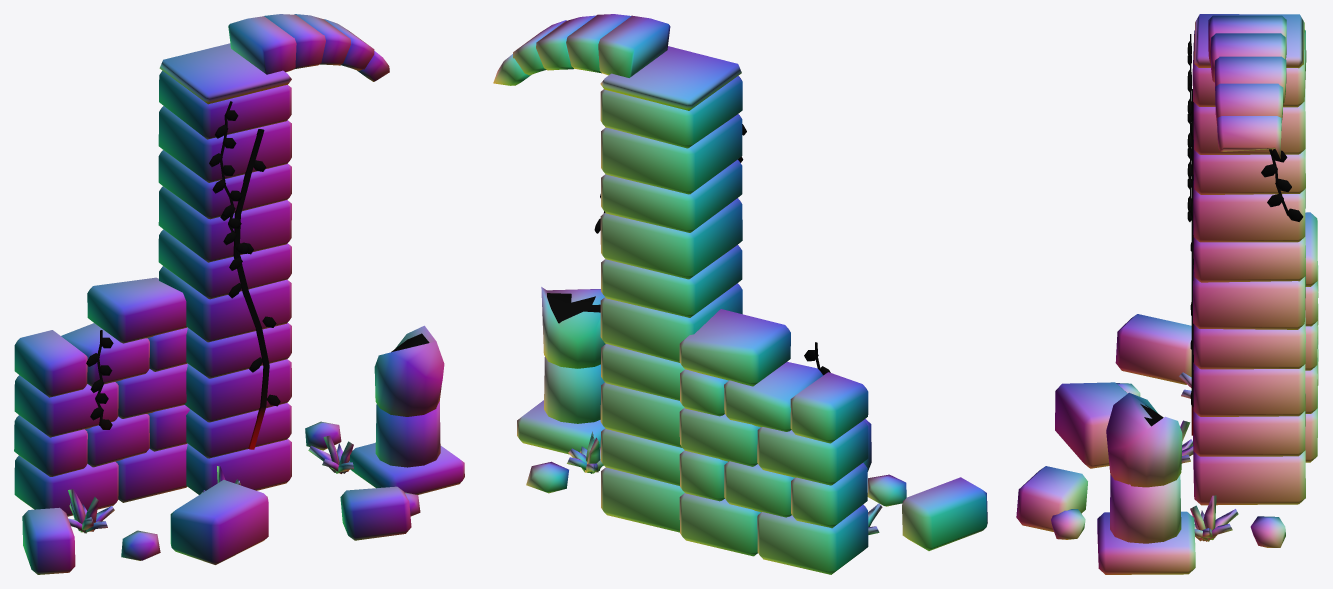
File: SM_Prop_Story_ElvenRuins.fbx
The picture shows the model from 3 angles, left to right: view 1: azimuth 30°, elevation 25°; view 2: azimuth 150°, elevation 25°; view 3: azimuth 270°, elevation 25°; orthographic projection. The views are drawn at different scales.
Visible parts, largest first — view 1: SM_Prop_Story_ElvenRuins; view 2: SM_Prop_Story_ElvenRuins; view 3: SM_Prop_Story_ElvenRuins.
Boxes of the visible parts, box(x1,y1,x2,y2) form: SM_Prop_Story_ElvenRuins: box(14, 14, 464, 574); SM_Prop_Story_ElvenRuins: box(493, 14, 987, 574); SM_Prop_Story_ElvenRuins: box(1016, 14, 1318, 574).
Size of the model in its own units: 2.42 by 2.46 by 1.38.
